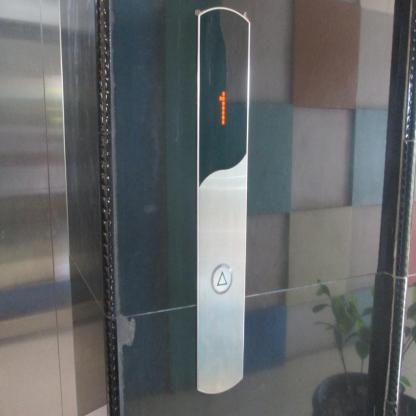led: (196, 8, 249, 185)
up: (208, 260, 233, 296)
